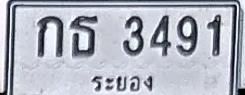1: (207, 14, 221, 56)
3: (122, 15, 143, 56)
4: (150, 14, 171, 56)
9: (177, 14, 198, 56)
A01: (37, 15, 63, 57)
A24: (70, 15, 98, 57)
RYG: (87, 72, 156, 95)
